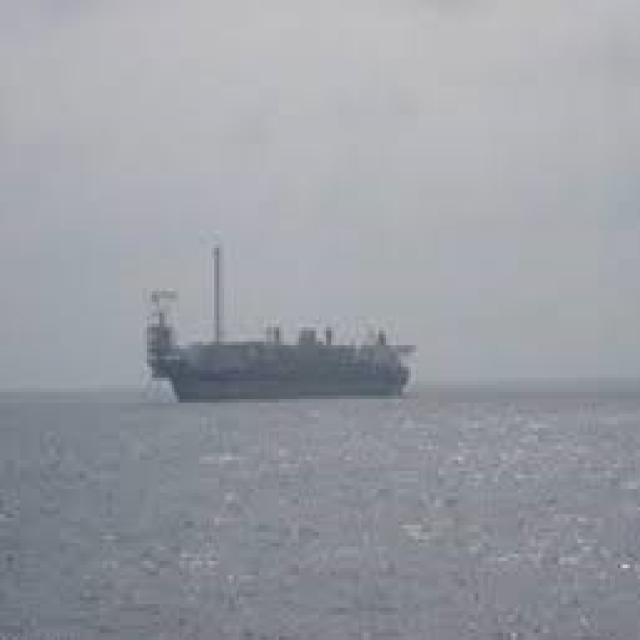cargoship: (146, 242, 417, 398)
